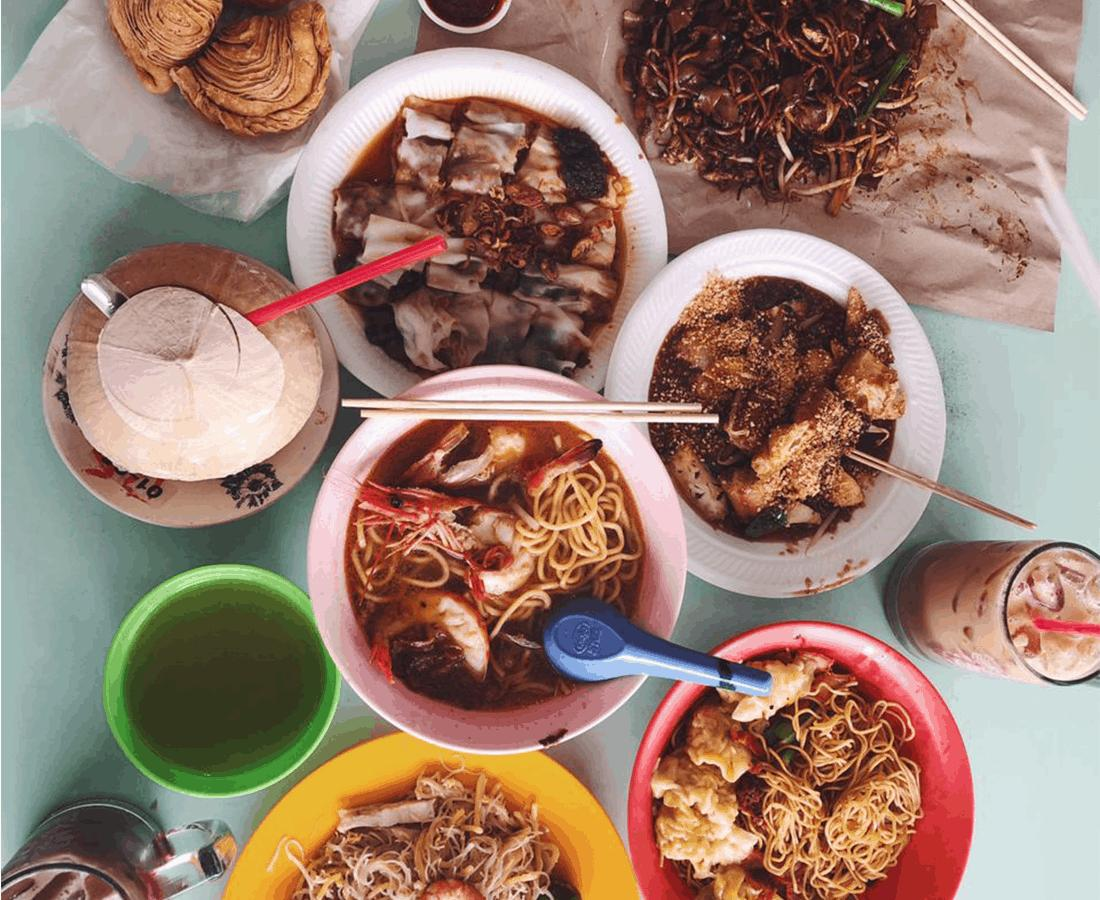Braised Crucian Carp: (323, 40, 648, 397), (305, 376, 637, 725), (615, 229, 941, 582), (629, 615, 975, 894)
